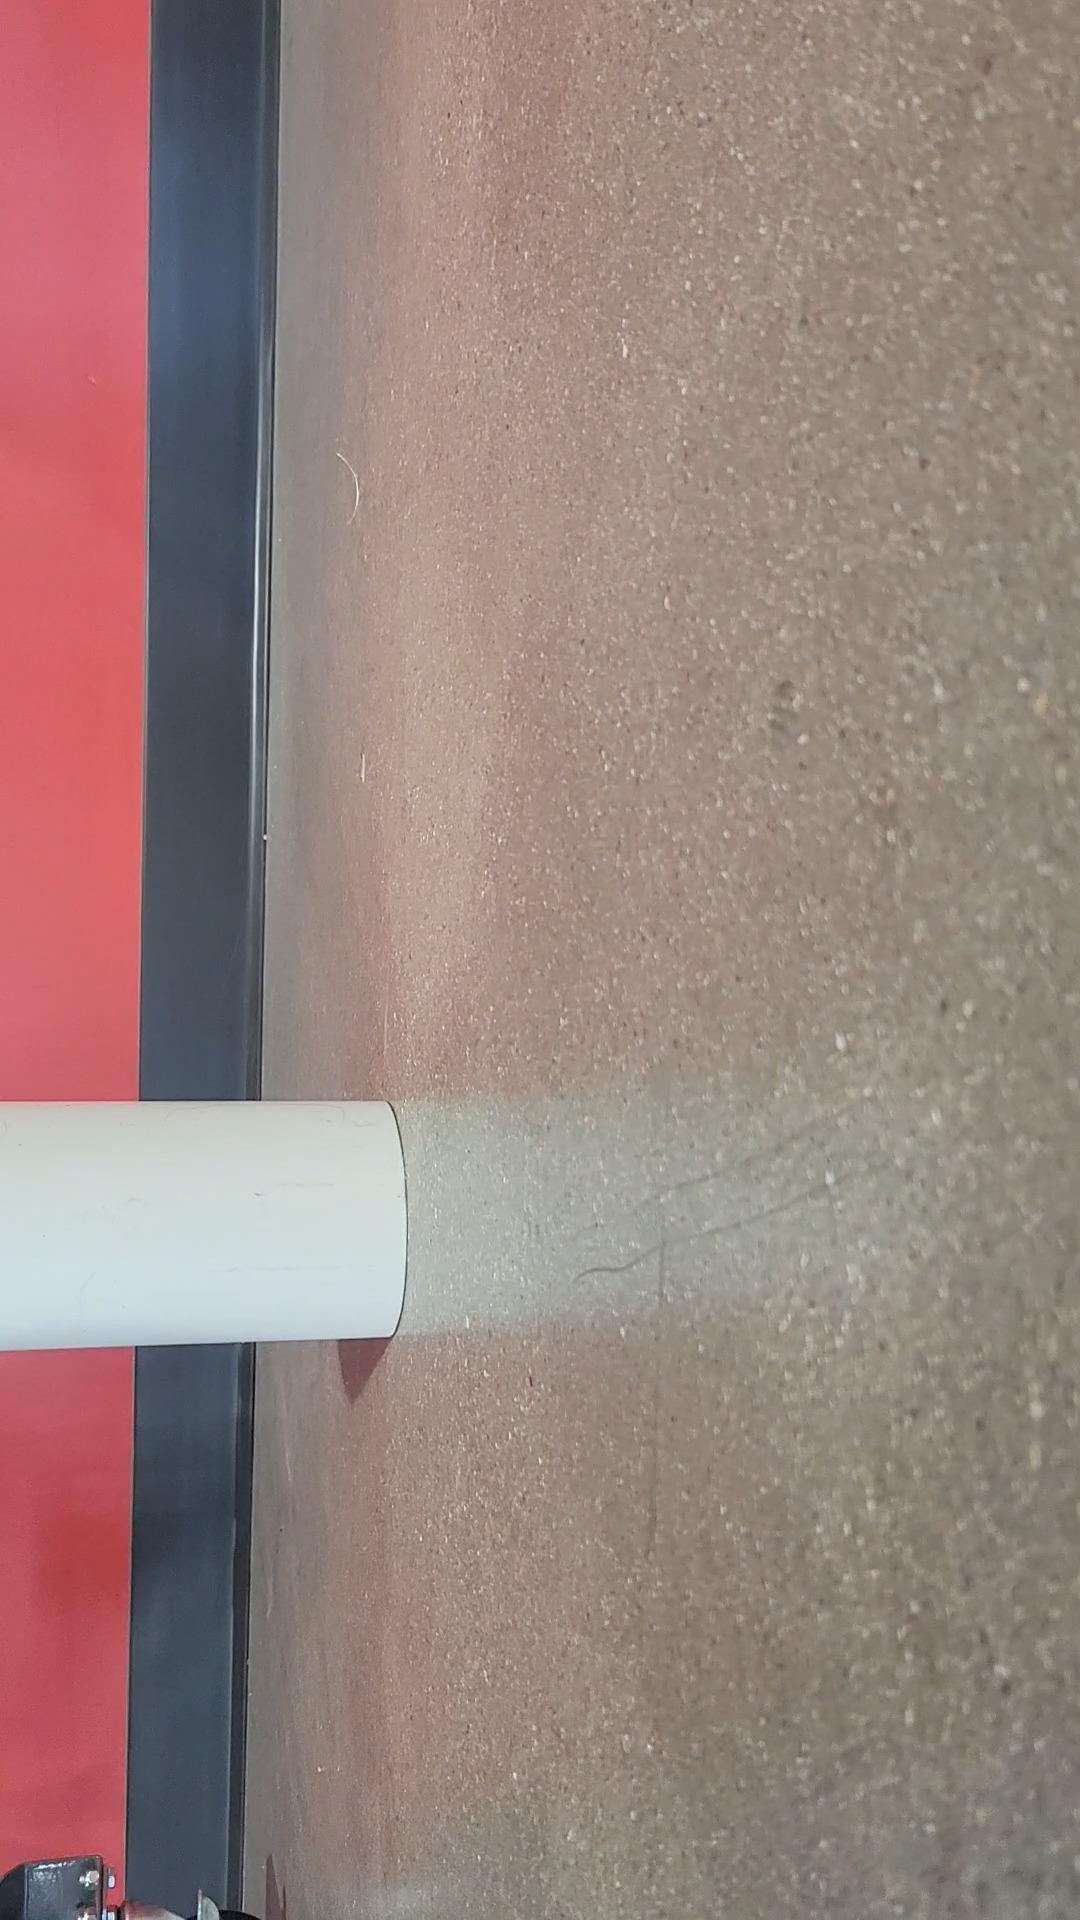coral: (0, 1100, 407, 1342)
